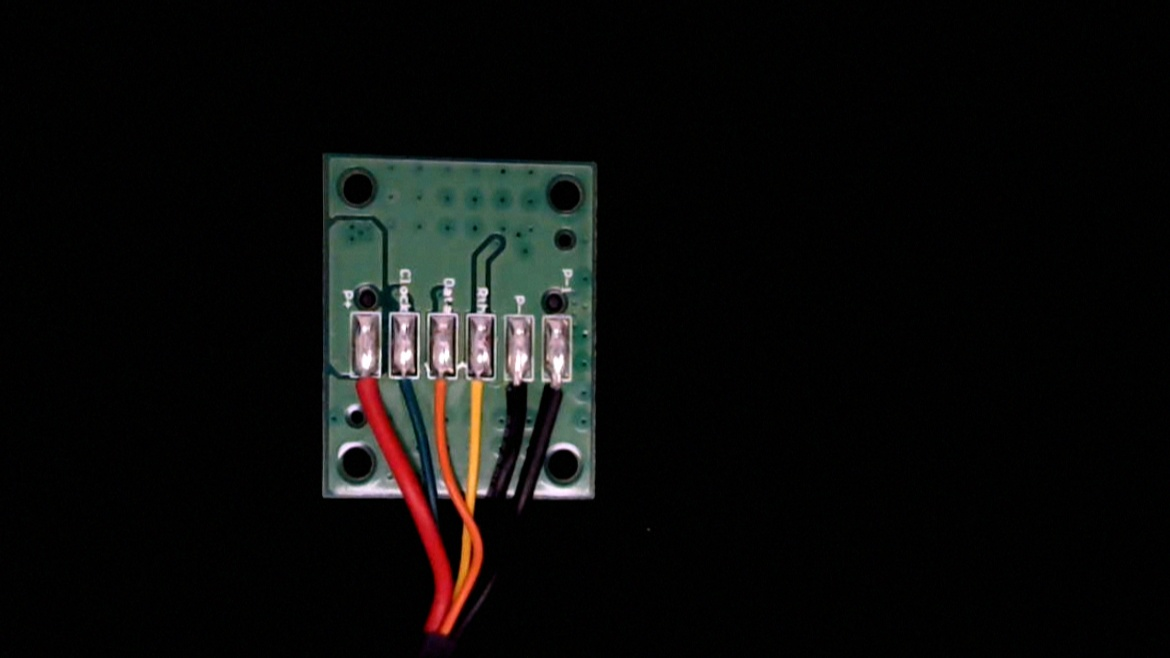Black: (504, 361, 535, 421)
Black1: (543, 362, 572, 423)
Green: (387, 359, 421, 418)
Orange: (426, 359, 458, 429)
Red: (351, 356, 383, 425)
Yellow: (466, 362, 497, 426)
